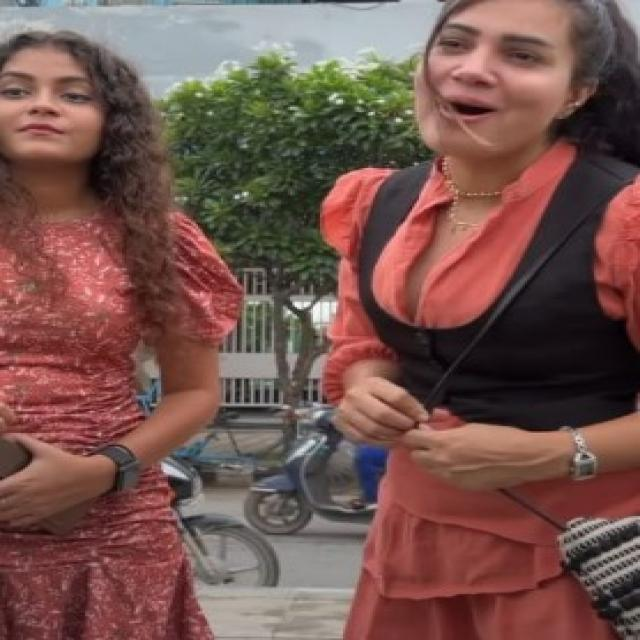Watch: (558, 421, 606, 488), (94, 438, 142, 504)
